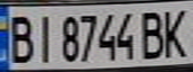4: (115, 8, 142, 61), (96, 9, 121, 62)
7: (78, 10, 96, 62)
8: (57, 10, 81, 63)
B: (3, 10, 36, 64), (136, 7, 169, 60)
I: (30, 10, 57, 64)
K: (157, 4, 193, 60)
